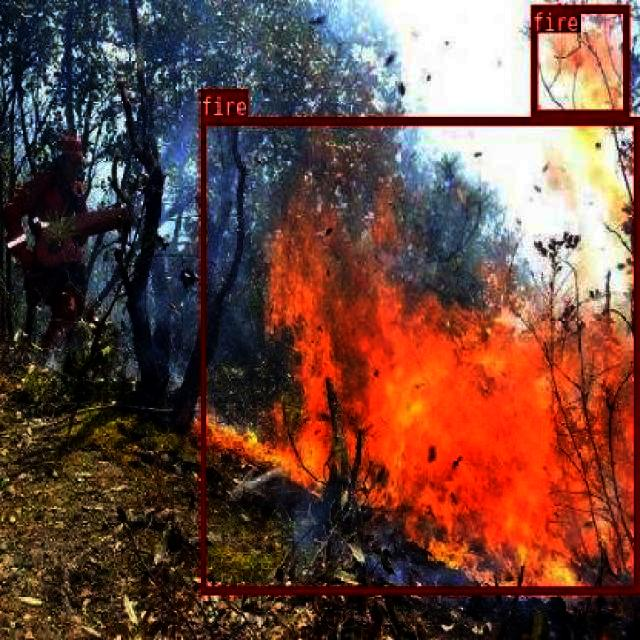fire: (198, 115, 637, 592), (530, 4, 628, 118)
